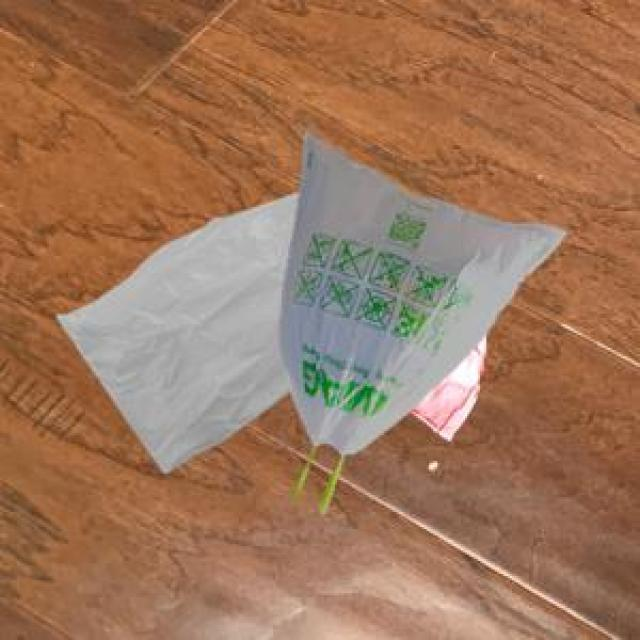waste: (58, 138, 564, 472)
